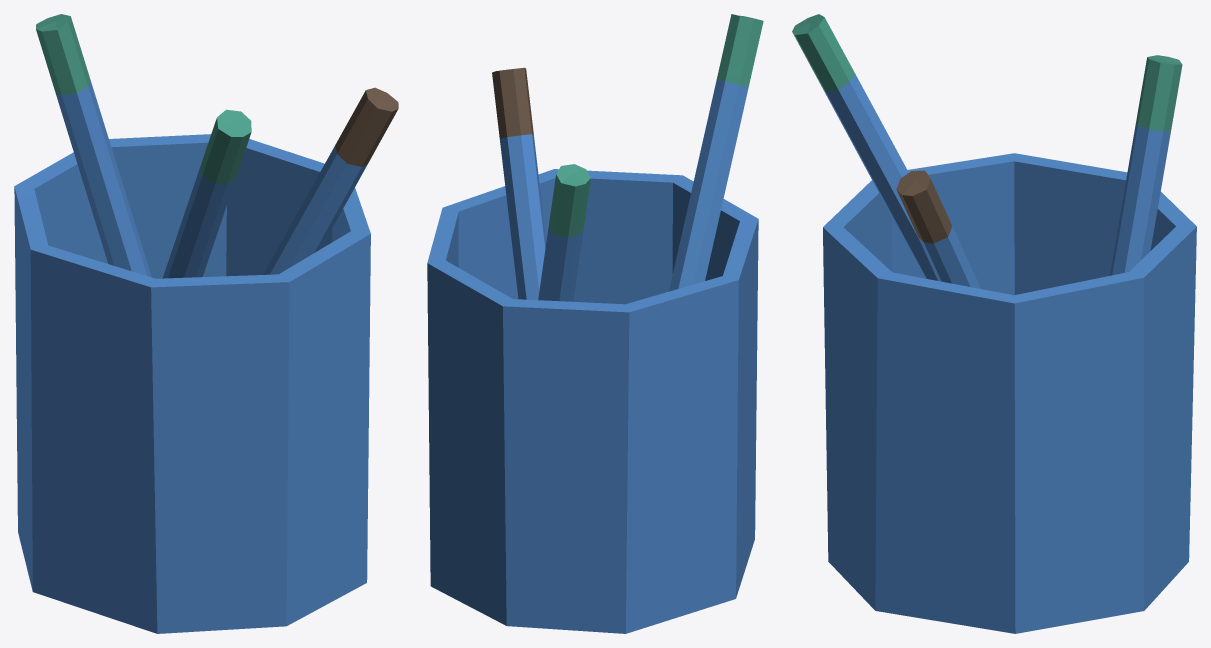
The model's file is Childroom2_Pens.fbx.
The picture shows the model from 3 angles, left to right: view 1: azimuth 30°, elevation 25°; view 2: azimuth 150°, elevation 25°; view 3: azimuth 270°, elevation 25°; orthographic projection. The views are drawn at different scales.
Visible parts, largest first — view 1: Childroom2_Pens; view 2: Childroom2_Pens; view 3: Childroom2_Pens.
Boxes of the visible parts, box(x1,y1,x2,y2) form: Childroom2_Pens: box(14, 14, 398, 633); Childroom2_Pens: box(427, 14, 763, 633); Childroom2_Pens: box(792, 14, 1196, 633).
Size of the model in its own units: 12.95 by 20.92 by 14.74.
